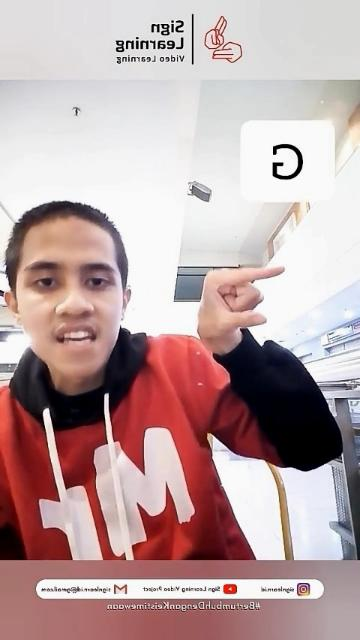G: (194, 260, 288, 344)
